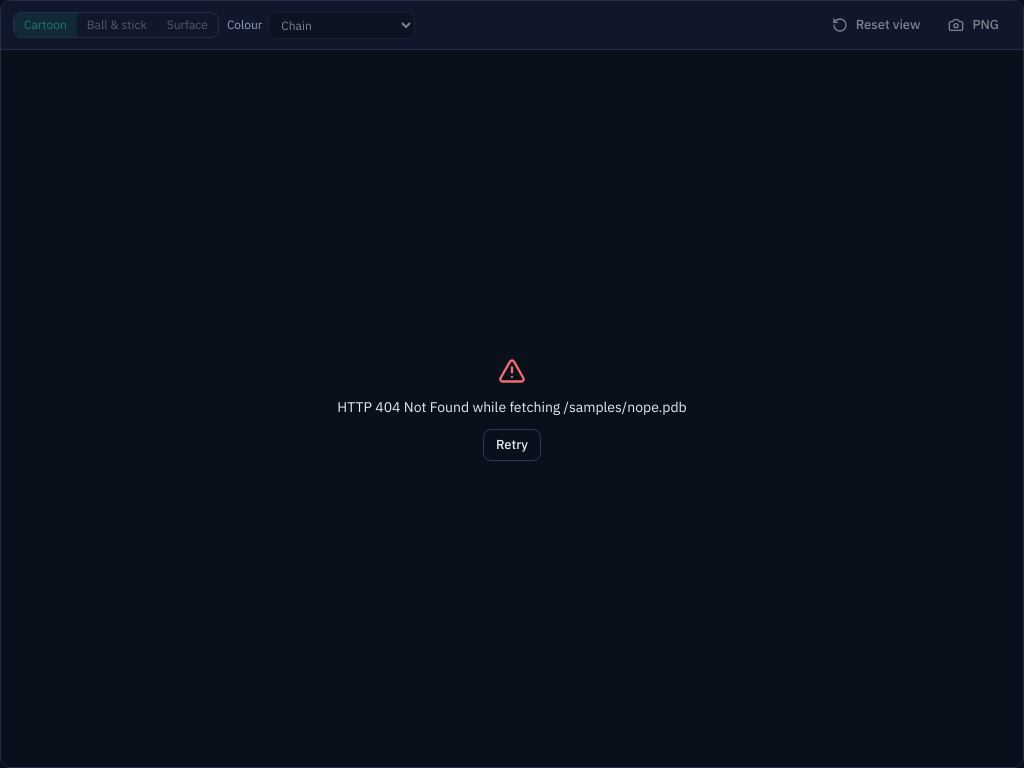
Test: ViewerPanel › shows an error with Retry when loading fails, and retries
The image size is (1024, 768).
expect the message shows "HTTP 404": met, box [337, 398, 687, 416]
Click the button "Retry" at (512, 444), box [483, 428, 541, 460]
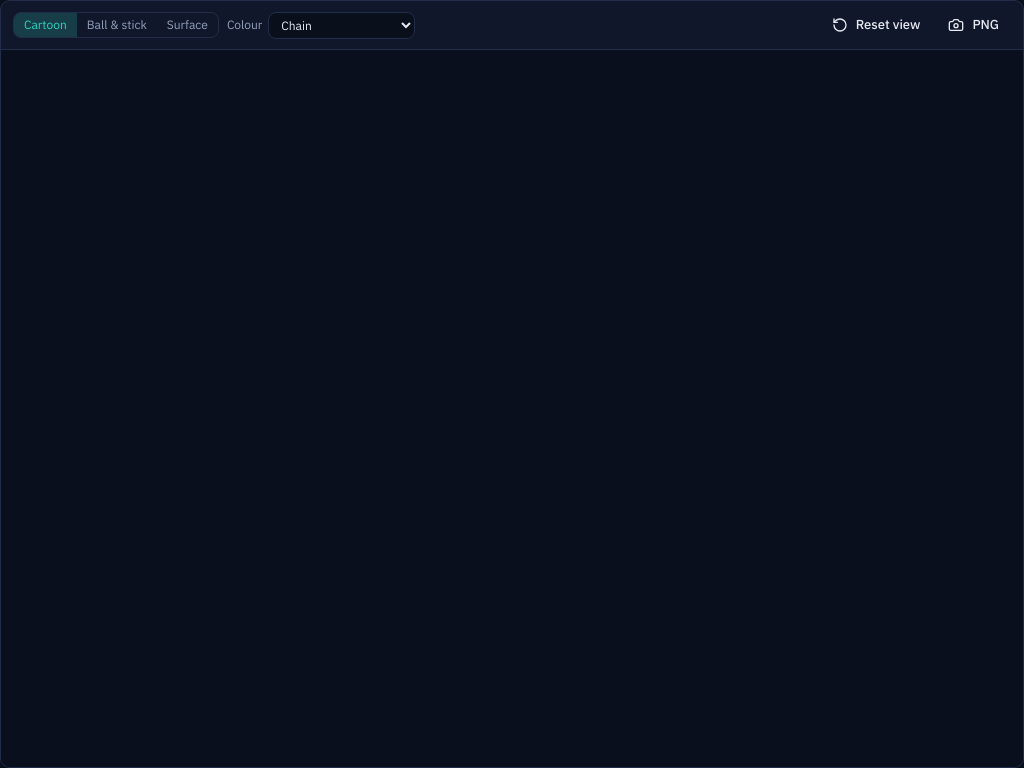
expect the message "HTTP 404 Not Found while fetching /samples/nope.pdb Retry" is gone: met
